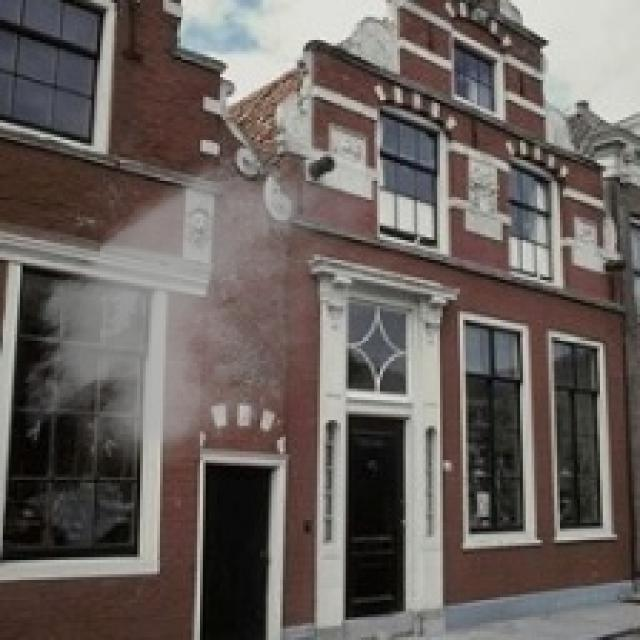Smoke: (8, 123, 420, 486)
